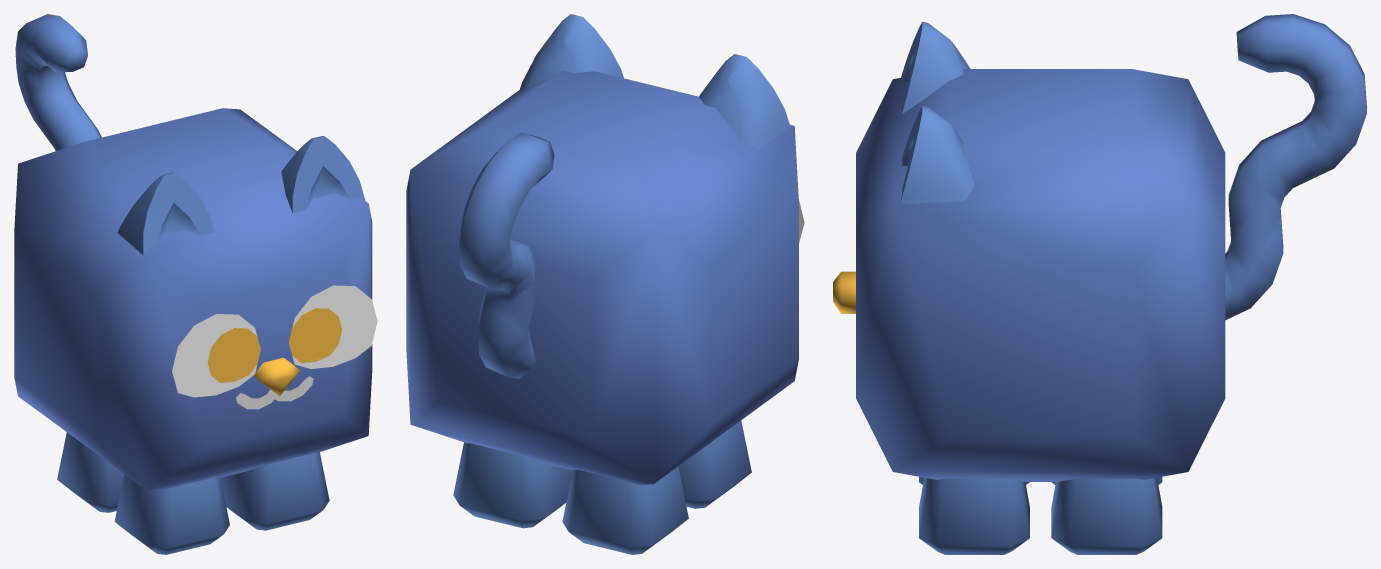
Rendered from Cat.fbx.
The picture shows the model from 3 angles, left to right: view 1: azimuth 30°, elevation 25°; view 2: azimuth 150°, elevation 25°; view 3: azimuth 270°, elevation 25°; orthographic projection. The views are drawn at different scales.
Visible parts, largest first — view 1: body, tail, leg-front-right, leg-front-left, leg-back-right, Group; view 2: body, tail, leg-back-right, leg-back-left, leg-front-right; view 3: body, tail, leg-back-left, leg-front-left.
Boxes of the visible parts, x1,y1,x2,y2 form: body: (14, 108, 377, 491); tail: (15, 14, 101, 150); leg-front-right: (114, 474, 229, 554); leg-front-left: (220, 452, 329, 530); leg-back-right: (57, 432, 124, 512); Group: (236, 376, 313, 409); body: (406, 14, 804, 485); tail: (459, 132, 554, 378); leg-back-right: (562, 467, 688, 554); leg-back-left: (453, 442, 572, 528); leg-front-right: (678, 420, 751, 508); body: (833, 21, 1225, 481); tail: (1225, 14, 1366, 320); leg-back-left: (1051, 477, 1162, 554); leg-front-left: (919, 477, 1029, 554).
Size of the model in its own units: 1.95 by 2.78 by 2.82.
2 materials, 1 textured.
